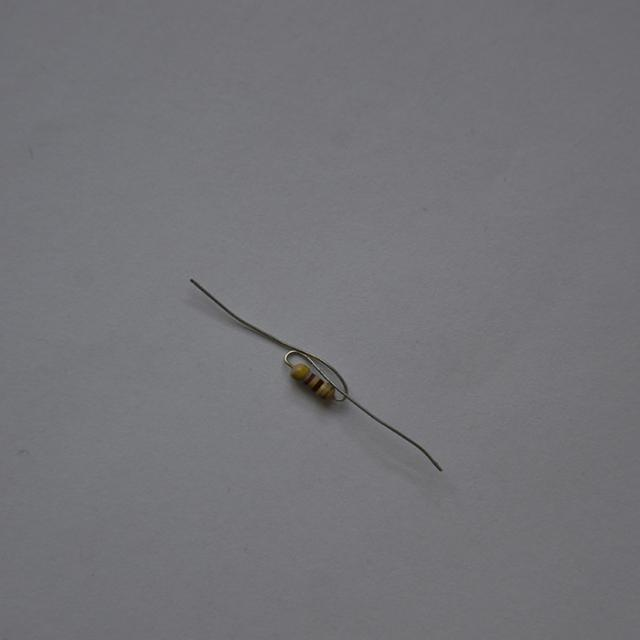brown: (310, 379, 323, 392)
gold: (320, 385, 335, 400)
resistor: (285, 358, 339, 406)
violet: (302, 373, 315, 384)
yellow: (293, 365, 308, 379)
